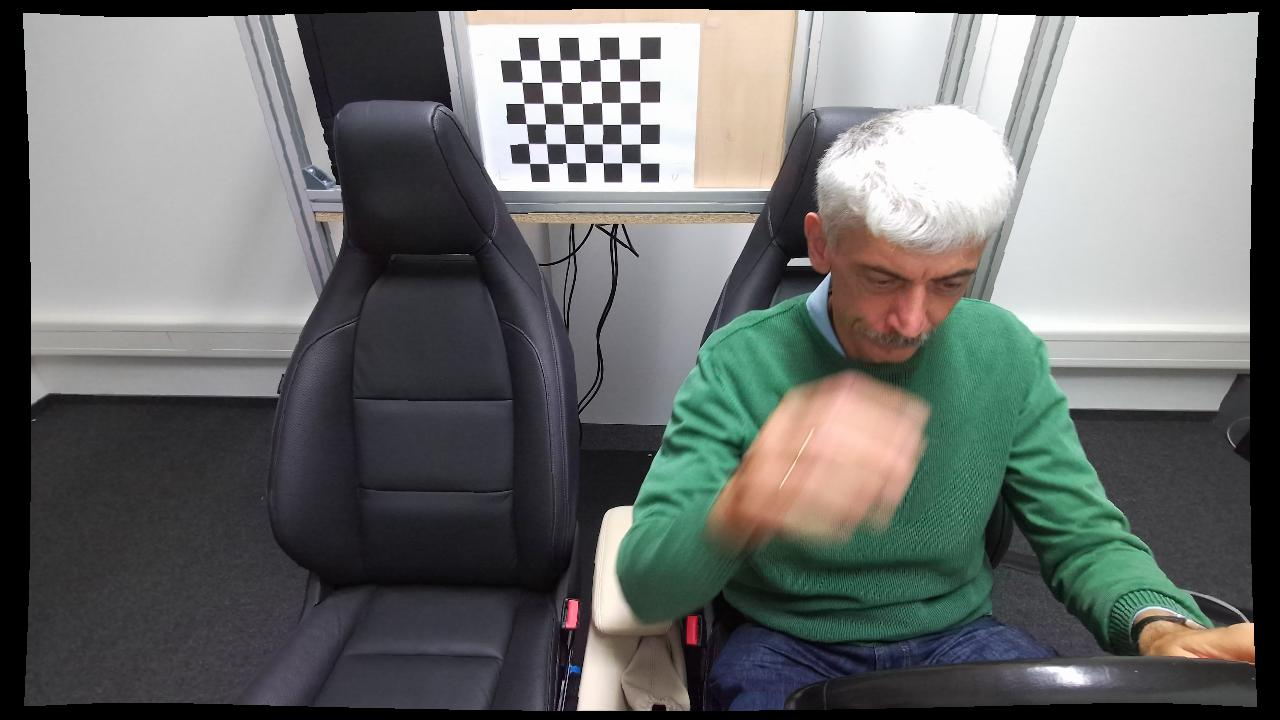Distracted: (618, 90, 1176, 713)
